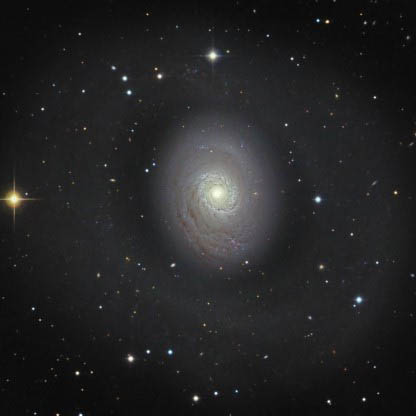Messier 94: (72, 41, 395, 370)
